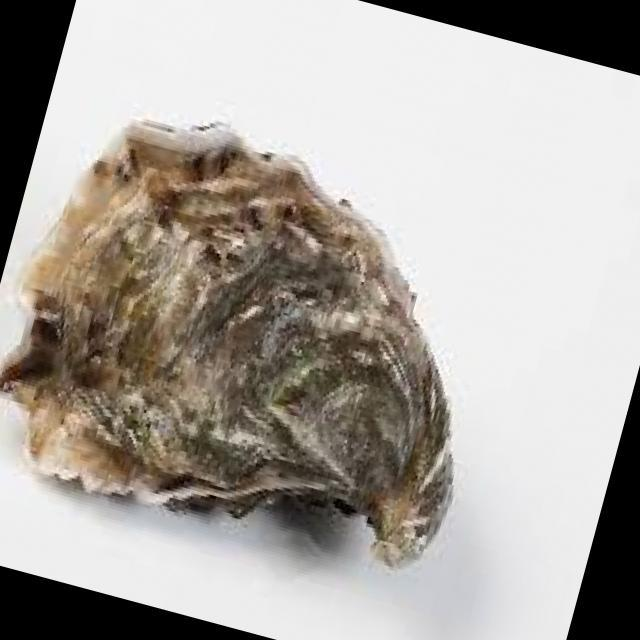Oyster- Indeterminate: (0, 120, 452, 562)
